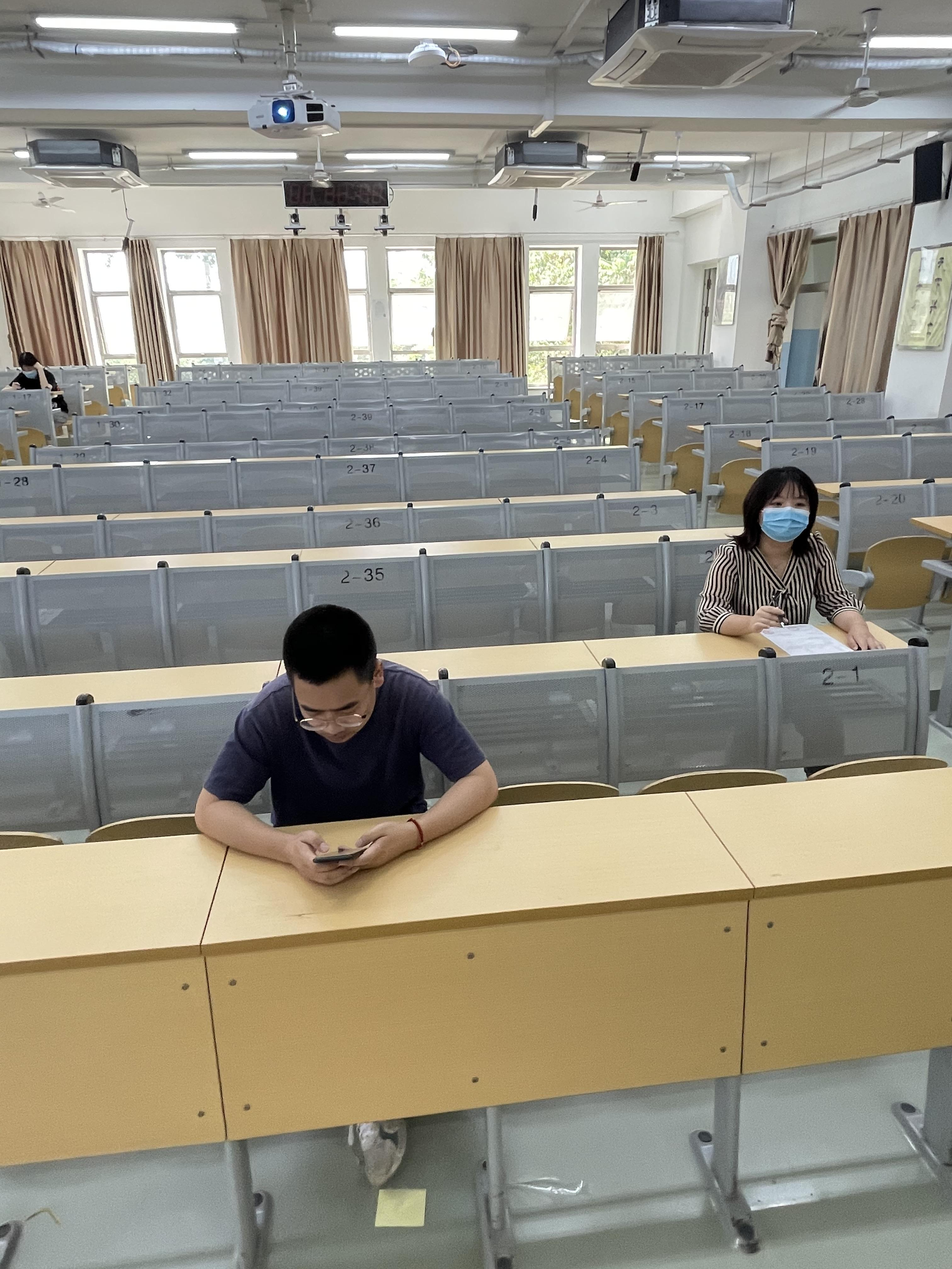phone: (193, 606, 496, 887)
study: (698, 469, 888, 655)
